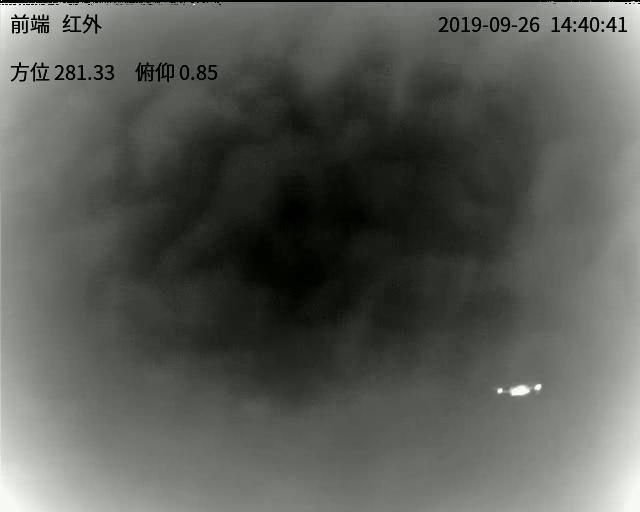DRONE: (495, 382, 543, 399)
